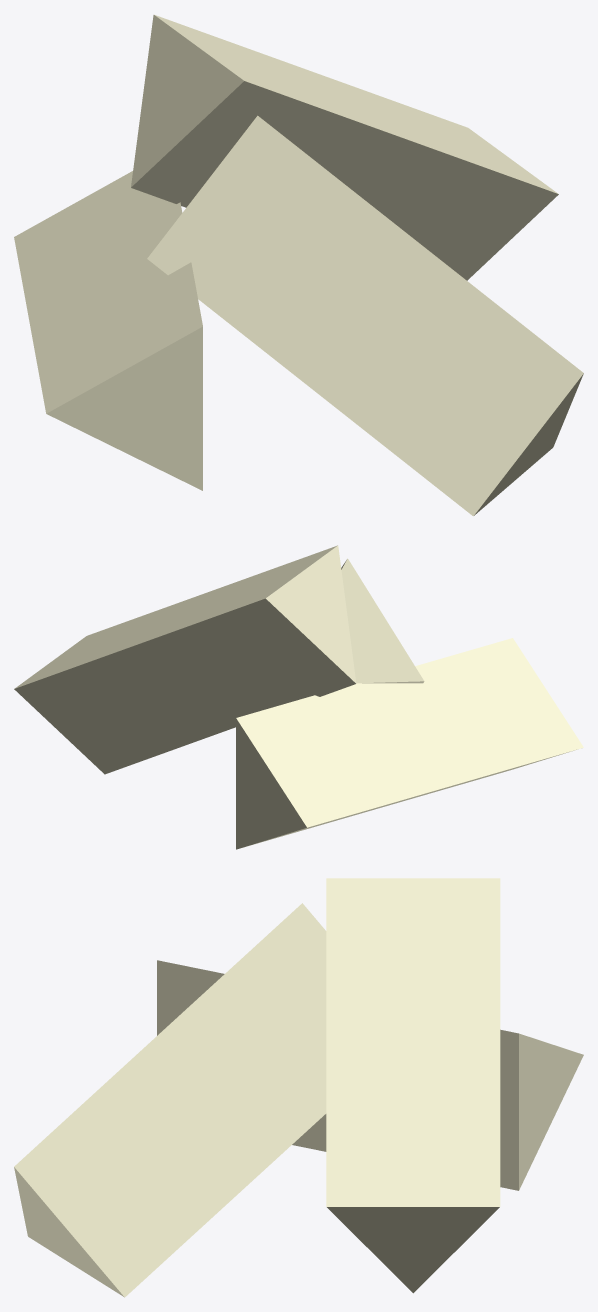
The model's file is Logs.glb.
3 views of the same model, one above another, from view 1: azimuth 30°, elevation 25°; view 2: azimuth 150°, elevation 25°; view 3: azimuth 270°, elevation 25° (orthographic). The views are drawn at different scales.
Parts seen in each view (by area): view 1: Logs; view 2: Logs; view 3: Logs.
Boxes of the visible parts, <box> form: Logs: <box>14,14,583,516</box>; Logs: <box>14,545,583,849</box>; Logs: <box>14,878,583,1297</box>.
Size of the model in its own units: 0.4685 by 0.2675 by 0.4261.
